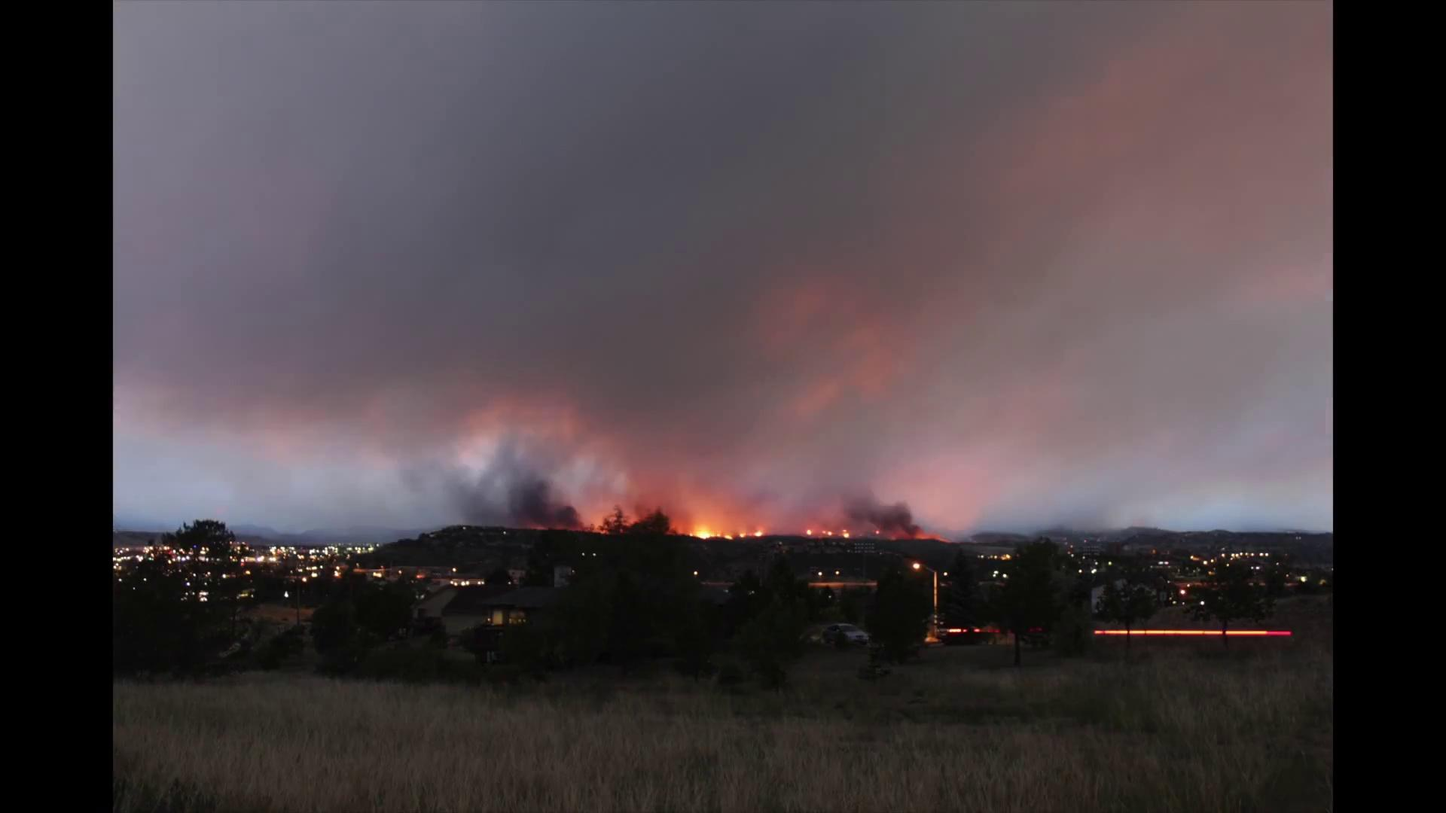fire: (690, 529, 766, 540), (804, 528, 853, 538)
